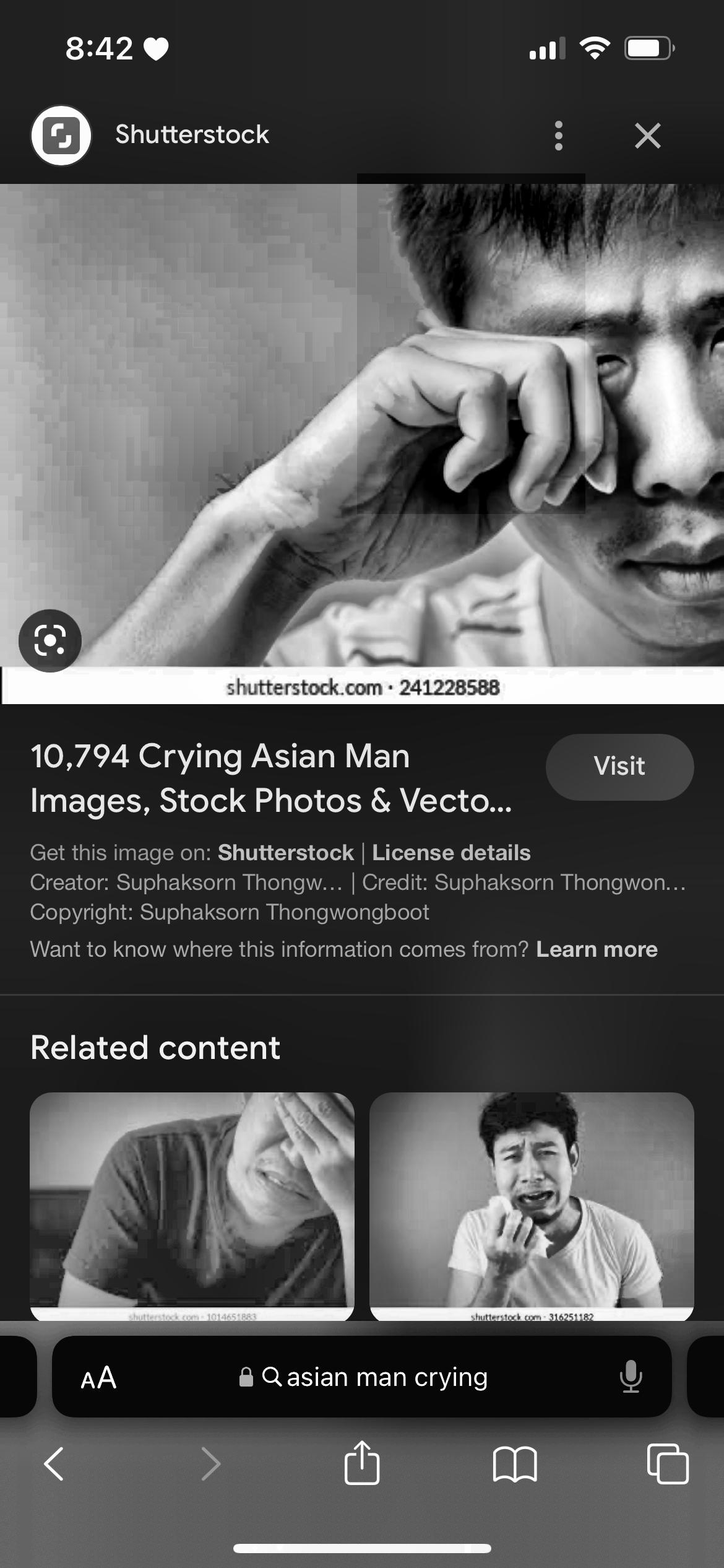sad: (442, 214, 724, 635)
